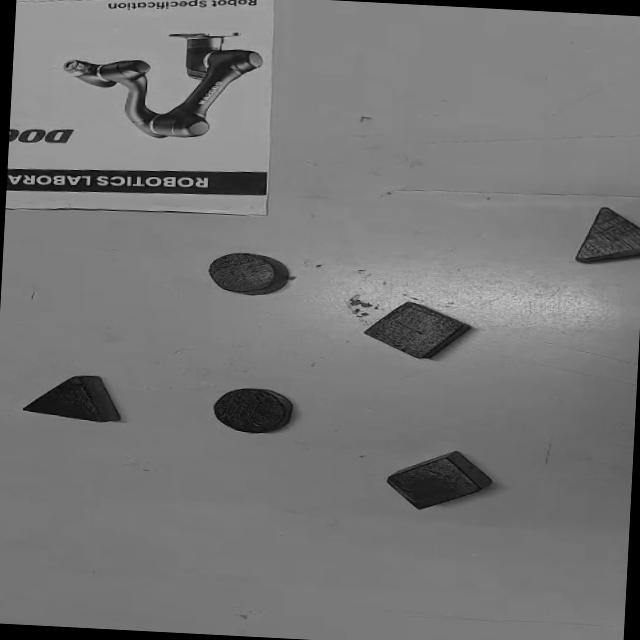bcircle: (210, 387, 294, 436)
bcube: (360, 298, 472, 364)
btriangle: (20, 371, 120, 424)
rcircle: (206, 250, 290, 298)
rcube: (384, 446, 494, 514)
rtriangle: (573, 205, 640, 267)
